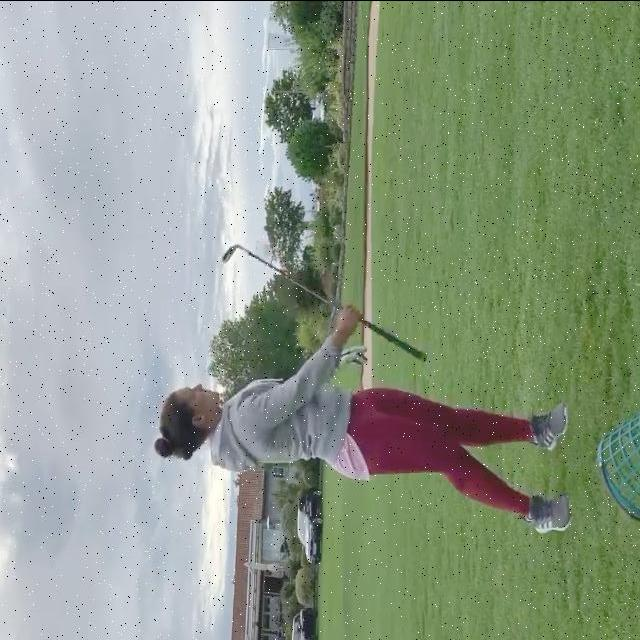ClubHandle: (219, 239, 429, 362)
ClubHead: (221, 245, 237, 263)
